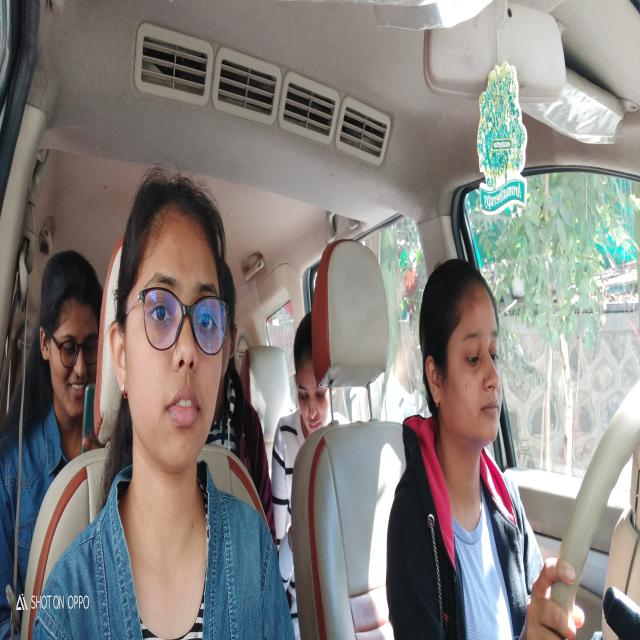person: (109, 160, 229, 480), (419, 249, 507, 457), (34, 243, 106, 420), (286, 314, 338, 439), (220, 227, 240, 418)
